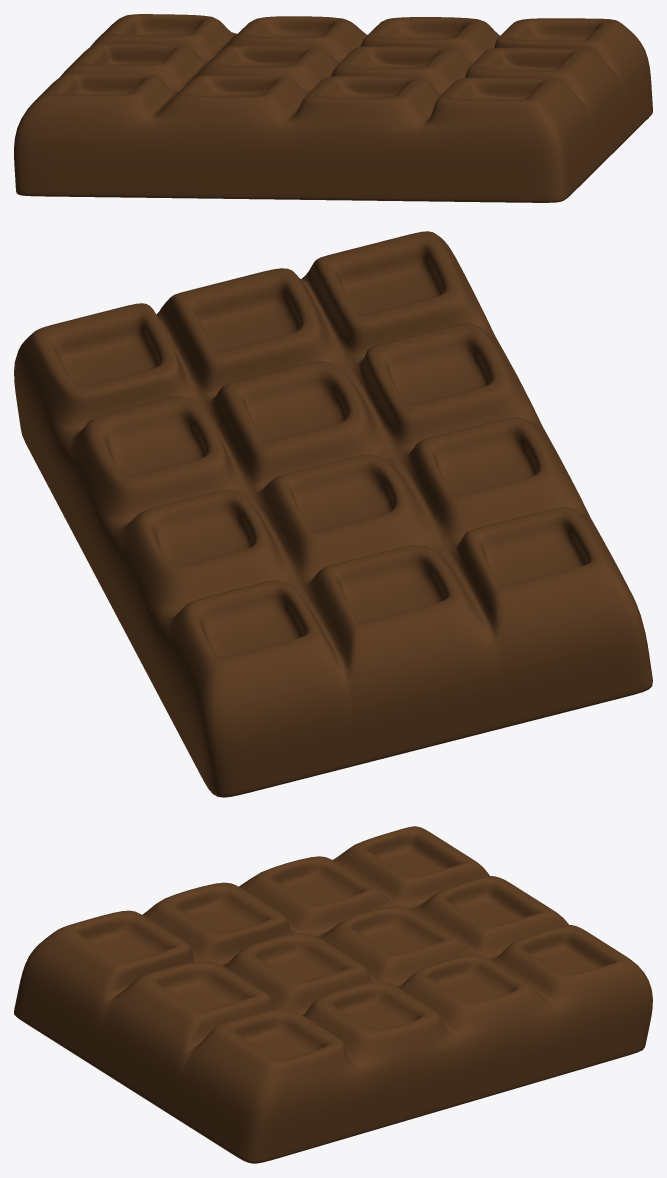
The model's file is chocolate.glb.
The picture shows the model from 3 angles, top to bottom: view 1: azimuth 30°, elevation 25°; view 2: azimuth 150°, elevation 25°; view 3: azimuth 270°, elevation 25°; orthographic projection. The views are drawn at different scales.
Visible parts, largest first — view 1: chocolate; view 2: chocolate; view 3: chocolate.
Boxes of the visible parts, x1,y1,x2,y2 form: chocolate: (14, 14, 652, 202); chocolate: (14, 231, 652, 797); chocolate: (14, 826, 652, 1163).
Size of the model in its own units: 2.64 by 0.8349 by 2.63.
